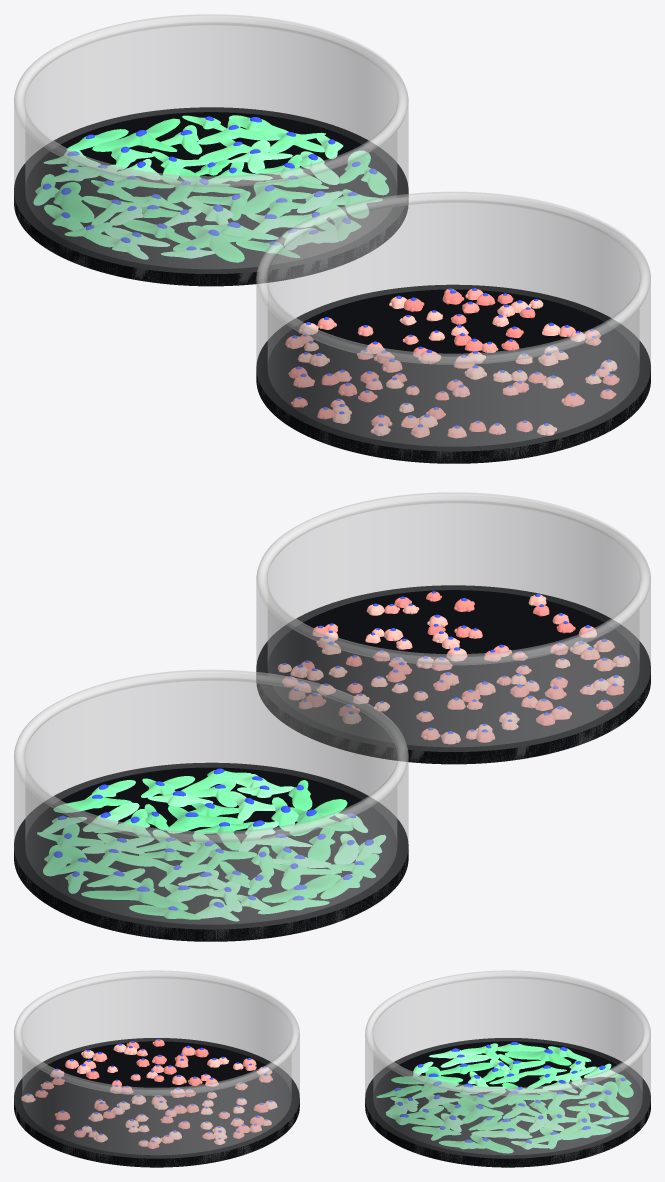
File: placas-petri-safe-toxic.glb
3 views of the same model, one above another, from view 1: azimuth 30°, elevation 25°; view 2: azimuth 150°, elevation 25°; view 3: azimuth 270°, elevation 25° (orthographic). The views are drawn at different scales.
Visible parts, largest first — view 1: dish_wall_toxic, dish_wall_inner_toxic, dish_wall_safe, dish_wall_inner_safe, culture_floor_toxic, cell_monolayer_safe, culture_floor_safe, cell_monolayer_toxic, dish_rim_toxic, dish_rim_safe, cell_nuclei_safe, cell_nuclei_toxic; view 2: dish_wall_safe, dish_wall_inner_safe, dish_wall_toxic, dish_wall_inner_toxic, culture_floor_toxic, cell_monolayer_safe, culture_floor_safe, cell_monolayer_toxic, dish_rim_safe, dish_rim_toxic, cell_nuclei_safe, cell_nuclei_toxic; view 3: dish_wall_toxic, dish_wall_safe, dish_wall_inner_safe, dish_wall_inner_toxic, culture_floor_toxic, cell_monolayer_safe, culture_floor_safe, cell_monolayer_toxic, dish_rim_safe, dish_rim_toxic, cell_nuclei_safe, cell_nuclei_toxic.
Part boxes in pixels (bbox=[...]): dish_wall_toxic: bbox=[256, 203, 650, 462]; dish_wall_inner_toxic: bbox=[268, 200, 639, 445]; dish_wall_safe: bbox=[14, 25, 408, 284]; dish_wall_inner_safe: bbox=[25, 22, 396, 268]; culture_floor_toxic: bbox=[256, 284, 650, 463]; cell_monolayer_safe: bbox=[33, 115, 389, 262]; culture_floor_safe: bbox=[14, 107, 408, 286]; cell_monolayer_toxic: bbox=[285, 289, 619, 438]; dish_rim_toxic: bbox=[256, 191, 650, 364]; dish_rim_safe: bbox=[14, 14, 408, 186]; cell_nuclei_safe: bbox=[42, 116, 377, 250]; cell_nuclei_toxic: bbox=[292, 288, 612, 428]; dish_wall_safe: bbox=[14, 681, 408, 938]; dish_wall_inner_safe: bbox=[25, 678, 396, 923]; dish_wall_toxic: bbox=[256, 503, 650, 762]; dish_wall_inner_toxic: bbox=[268, 500, 639, 746]; culture_floor_toxic: bbox=[256, 585, 650, 764]; cell_monolayer_safe: bbox=[37, 770, 385, 921]; culture_floor_safe: bbox=[14, 762, 408, 941]; cell_monolayer_toxic: bbox=[277, 591, 630, 744]; dish_rim_safe: bbox=[14, 669, 408, 842]; dish_rim_toxic: bbox=[256, 492, 650, 664]; cell_nuclei_safe: bbox=[53, 768, 373, 910]; cell_nuclei_toxic: bbox=[282, 591, 623, 733]; dish_wall_toxic: bbox=[14, 979, 299, 1166]; dish_wall_safe: bbox=[365, 979, 650, 1163]; dish_wall_inner_safe: bbox=[373, 976, 642, 1154]; dish_wall_inner_toxic: bbox=[22, 976, 291, 1154]; culture_floor_toxic: bbox=[14, 1038, 299, 1167]; cell_monolayer_safe: bbox=[376, 1043, 633, 1153]; culture_floor_safe: bbox=[365, 1038, 650, 1167]; cell_monolayer_toxic: bbox=[21, 1039, 277, 1148]; dish_rim_safe: bbox=[365, 970, 650, 1095]; dish_rim_toxic: bbox=[14, 970, 299, 1095]; cell_nuclei_safe: bbox=[394, 1042, 625, 1143]; cell_nuclei_toxic: bbox=[27, 1039, 272, 1142].
Bounding box in the file's own units: 0.035 × 0.0105 × 0.078.
